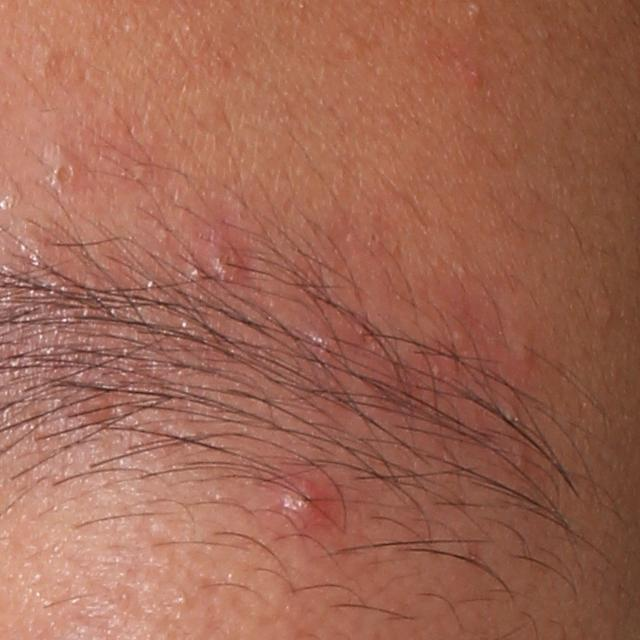comedo: (48, 160, 82, 192), (335, 29, 359, 55)
